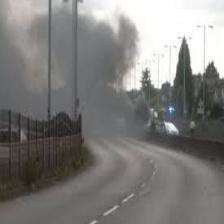smoke: (5, 1, 138, 137)
